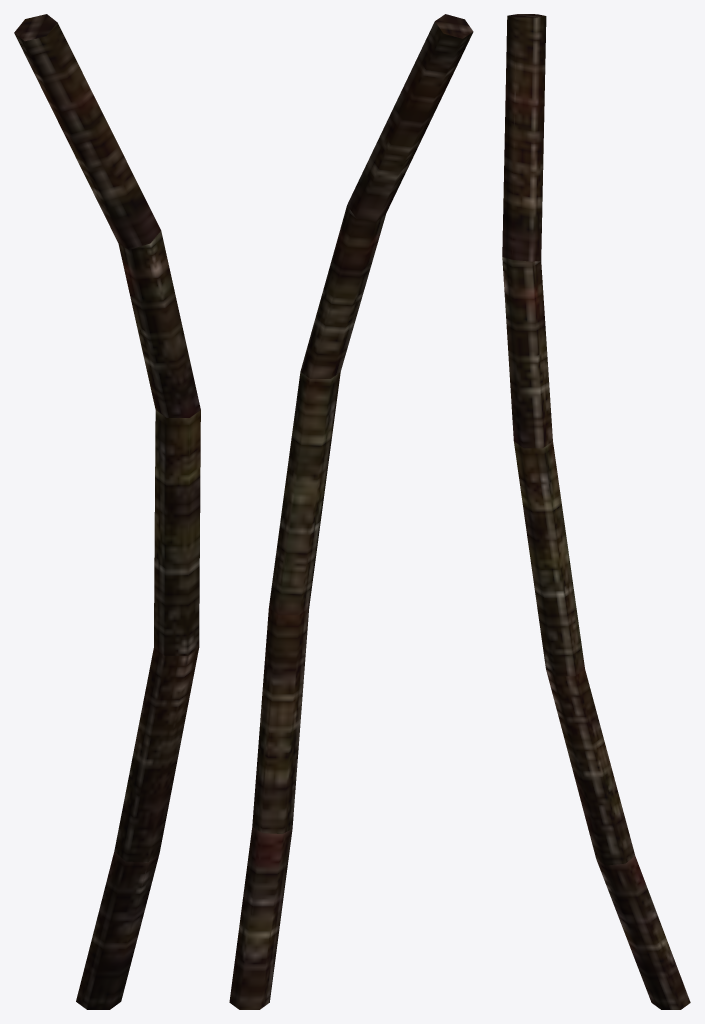
File: rebar001a_32.glb
The picture shows the model from 3 angles, left to right: view 1: azimuth 30°, elevation 25°; view 2: azimuth 150°, elevation 25°; view 3: azimuth 270°, elevation 25°; orthographic projection. The views are drawn at different scales.
Parts seen in each view (by area): view 1: 0_rebar_concrete001; view 2: 0_rebar_concrete001; view 3: 0_rebar_concrete001.
Boxes of the visible parts, <box> form: 0_rebar_concrete001: <box>14,14,200,1009</box>; 0_rebar_concrete001: <box>229,14,473,1009</box>; 0_rebar_concrete001: <box>502,14,690,1009</box>.
Size of the model in its own units: 0.1552 by 0.8128 by 0.1492.
1 material, 1 textured.
